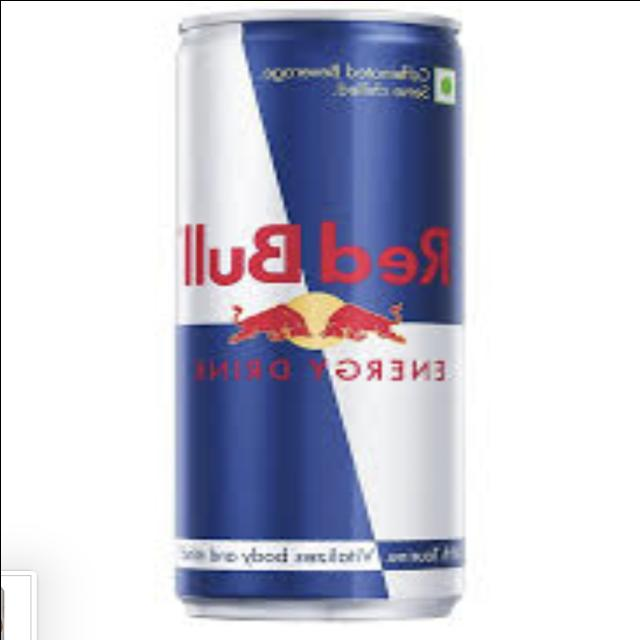can: (140, 0, 500, 619)
